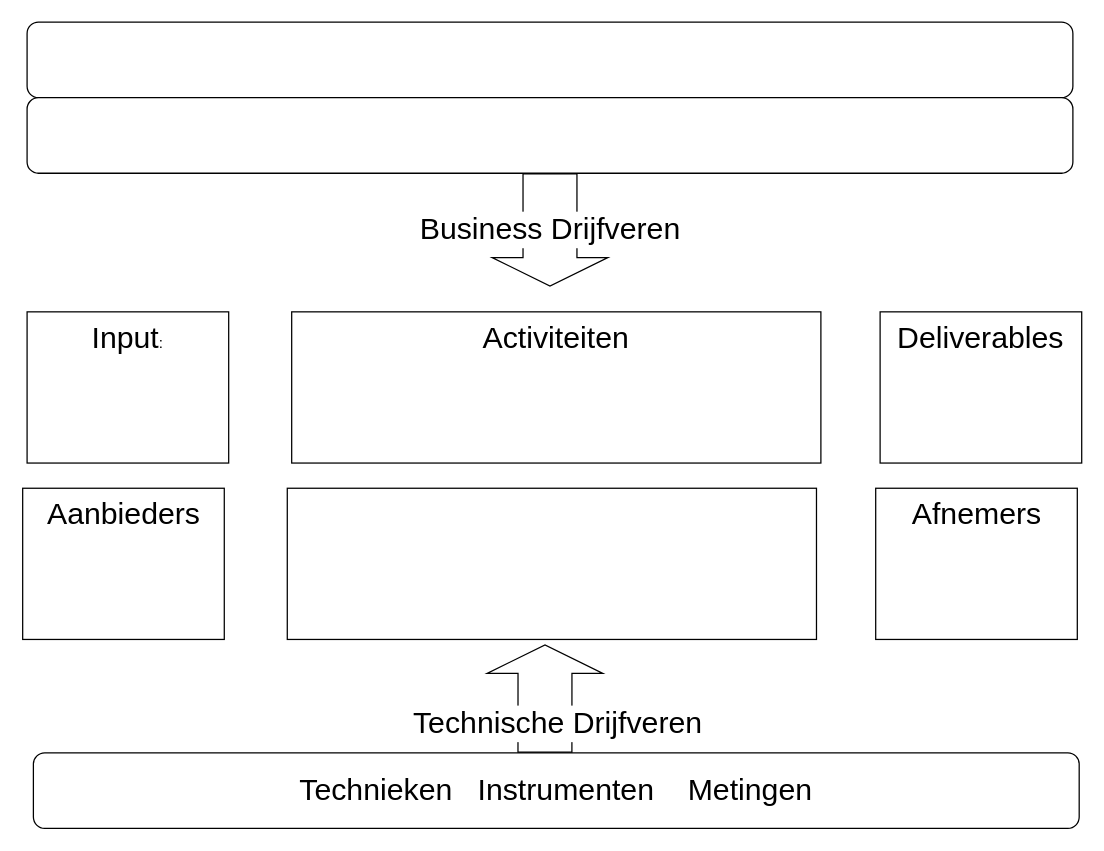
The diagram is 1104 pixels wide and 851 high, and some of its shapes have lost their labels. The centre of each missing label's shape, as x and y in pixels:
"Deelnemers" belongs at (x=551, y=563).
"Doelen" belongs at (x=549, y=134).
"Project definitie" belongs at (x=549, y=59).
